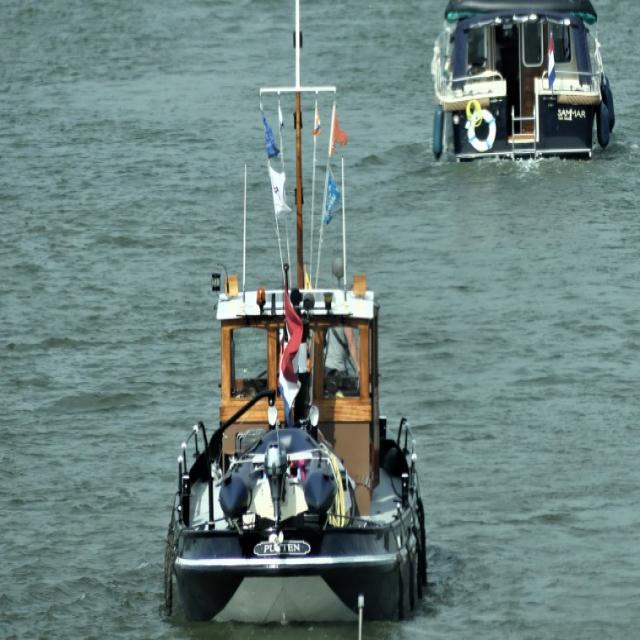tugboat: (161, 1, 432, 640)
